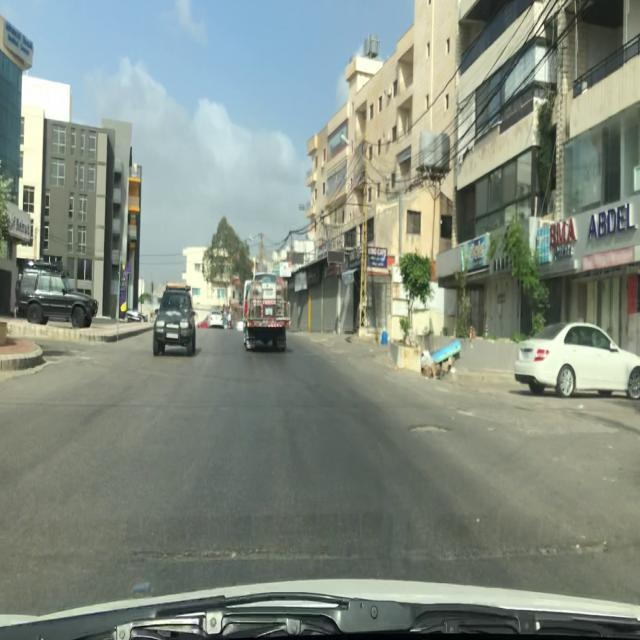Buraco: (403, 423, 454, 435)
